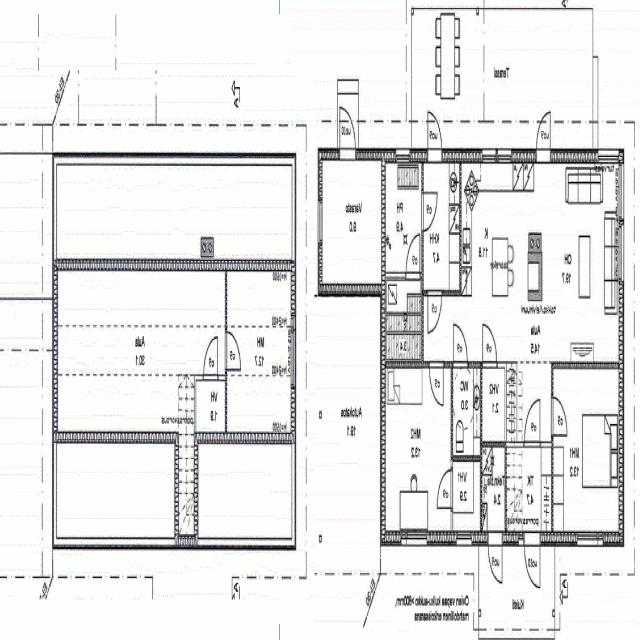door: (340, 106, 355, 162), (525, 533, 540, 588), (524, 400, 540, 447), (428, 110, 442, 163), (488, 533, 502, 583), (429, 361, 444, 407), (537, 112, 550, 163), (453, 324, 468, 368), (483, 323, 497, 368), (406, 236, 420, 281), (428, 290, 442, 334), (552, 398, 568, 436), (422, 193, 438, 231), (225, 332, 241, 370), (204, 338, 218, 380), (437, 471, 452, 509)
